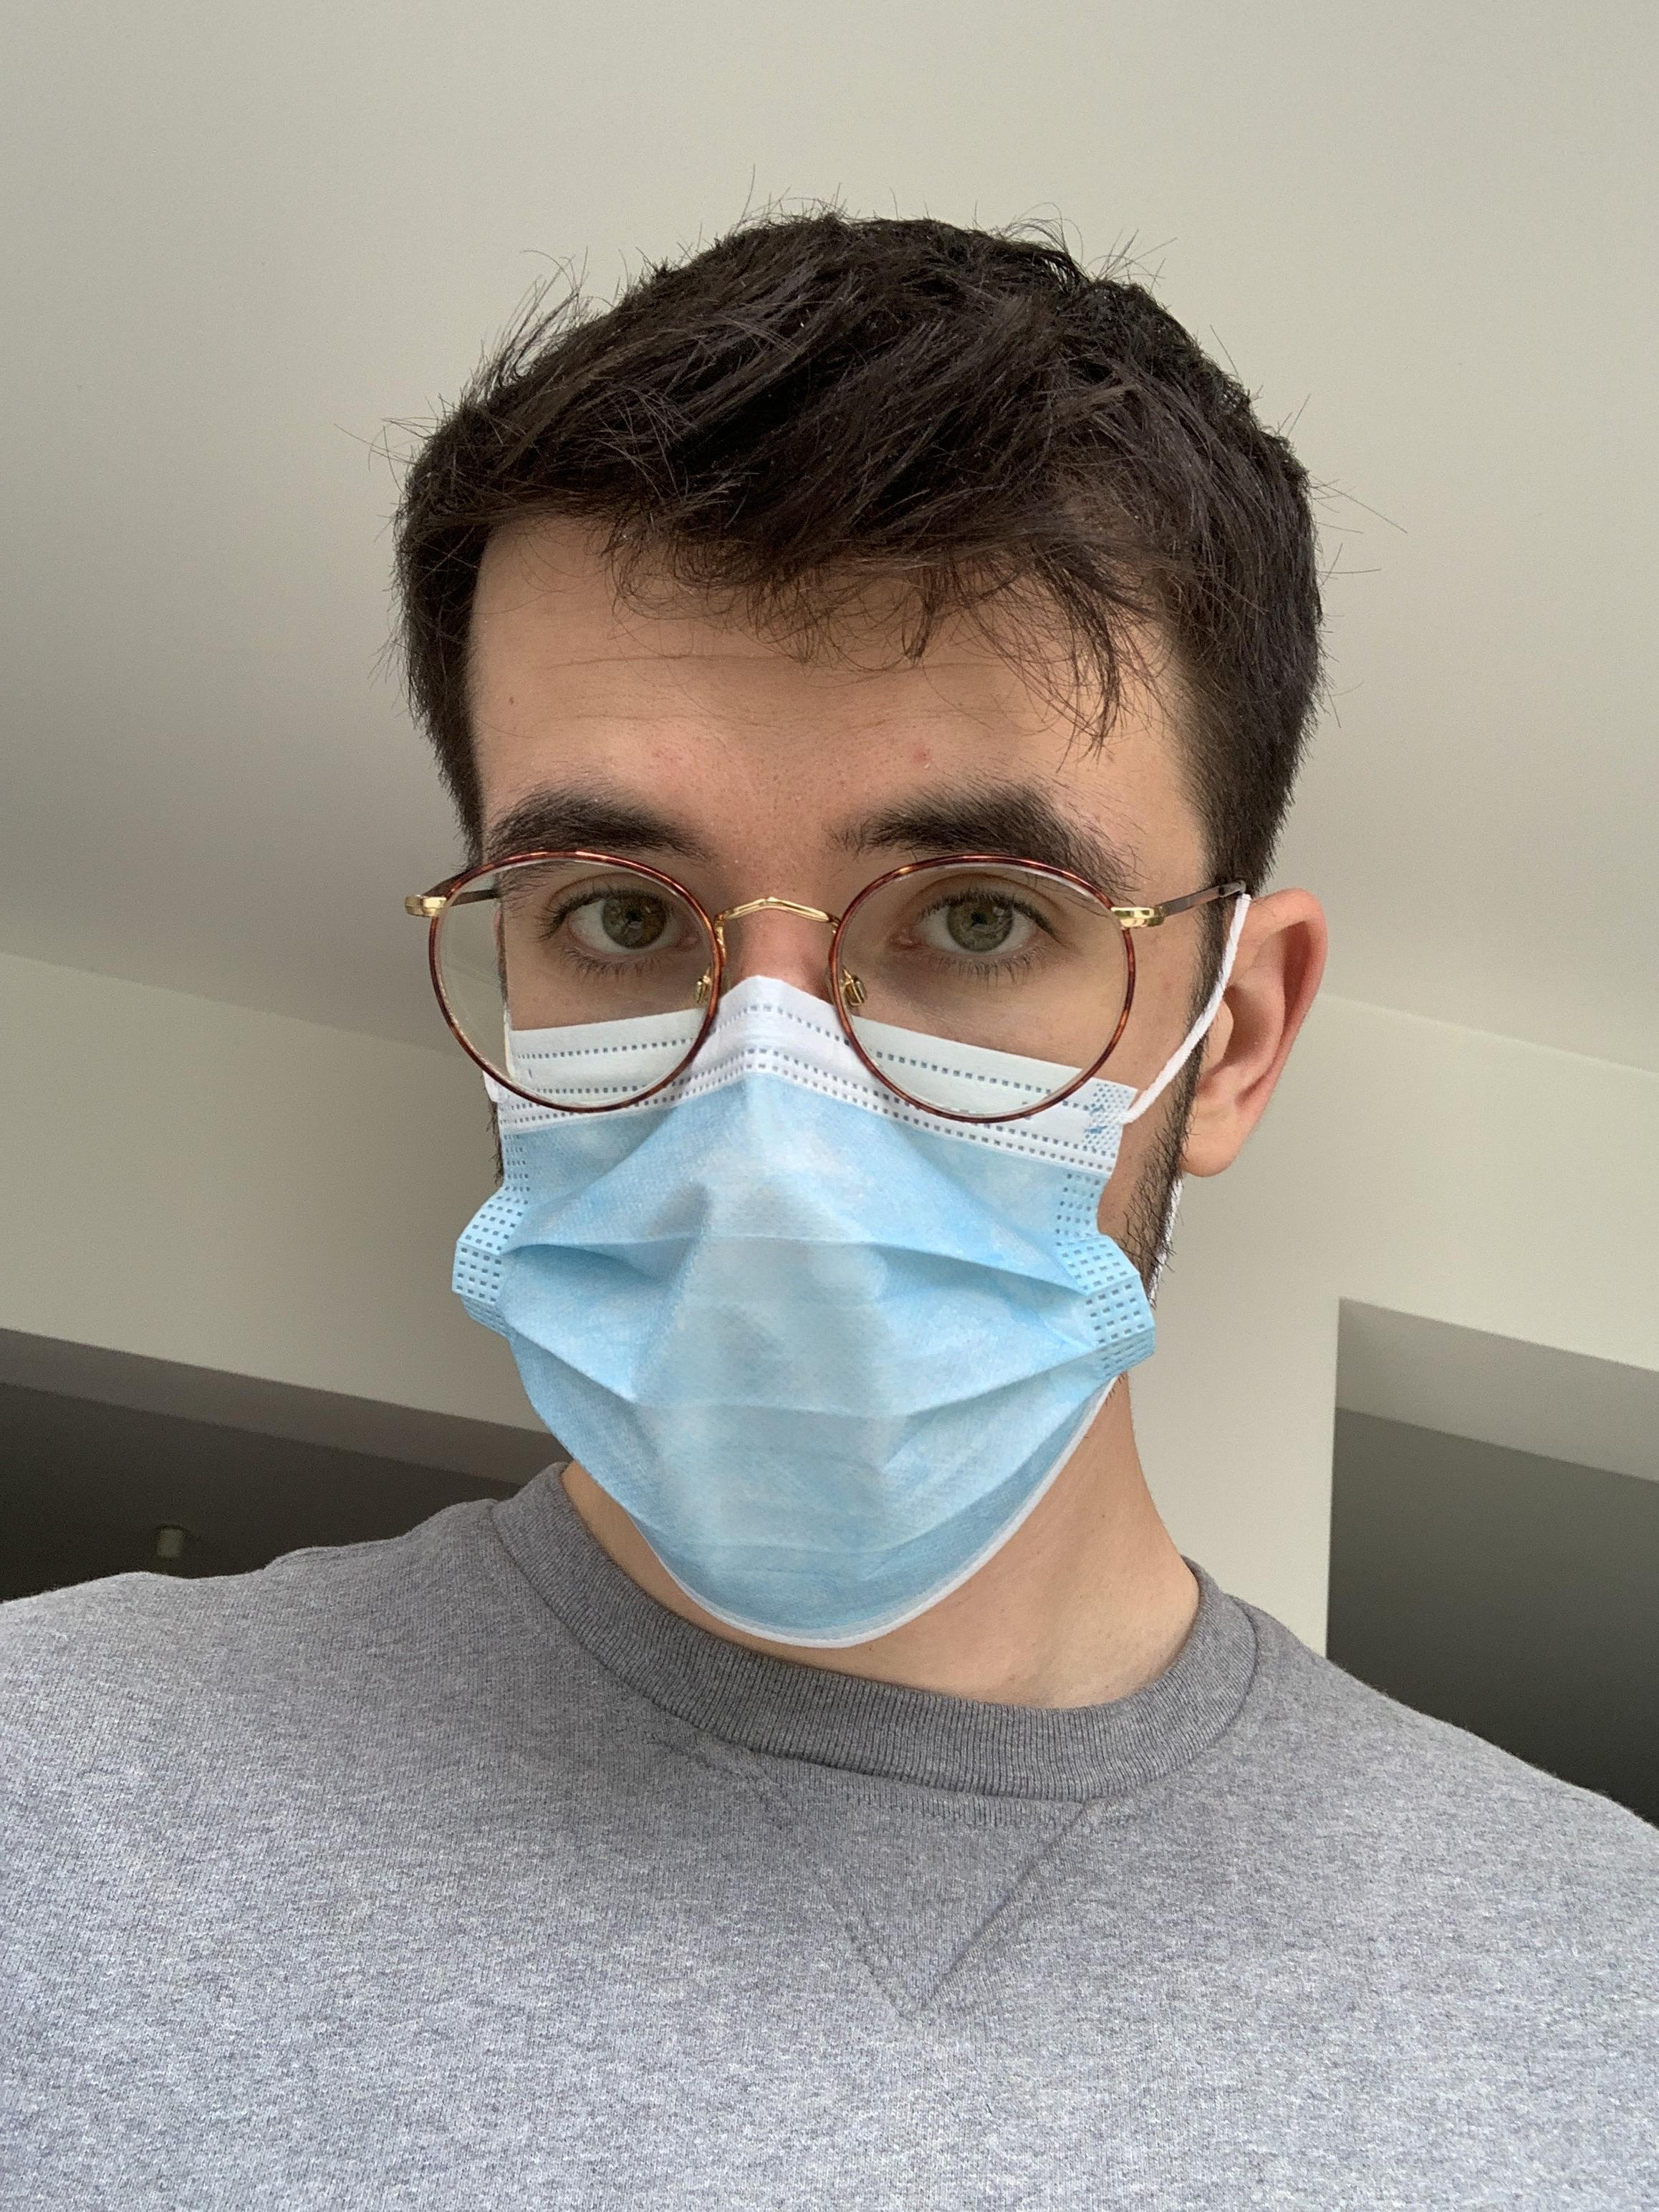with_mask: (391, 336, 1341, 1653)
